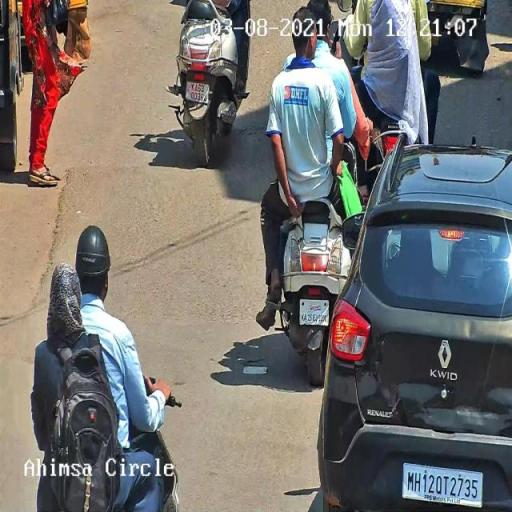tripple riding: (264, 2, 371, 216)
